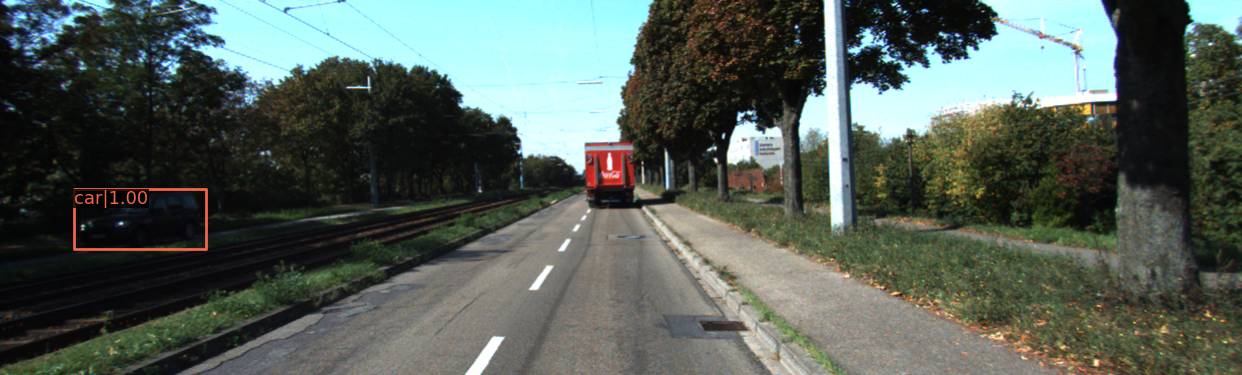car: (78, 191, 209, 251)
